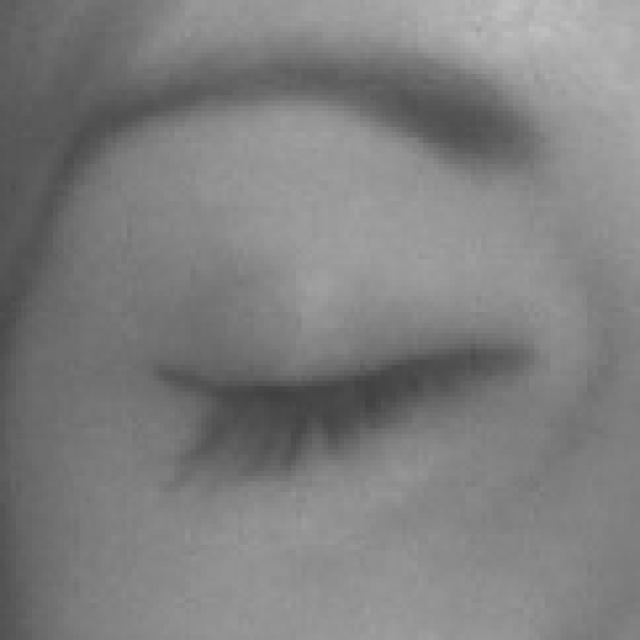Eyeclosed: (144, 234, 534, 578)
